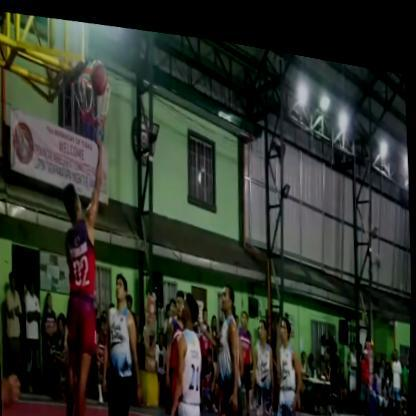basketball: (88, 48, 110, 99)
rim: (67, 45, 117, 143)
